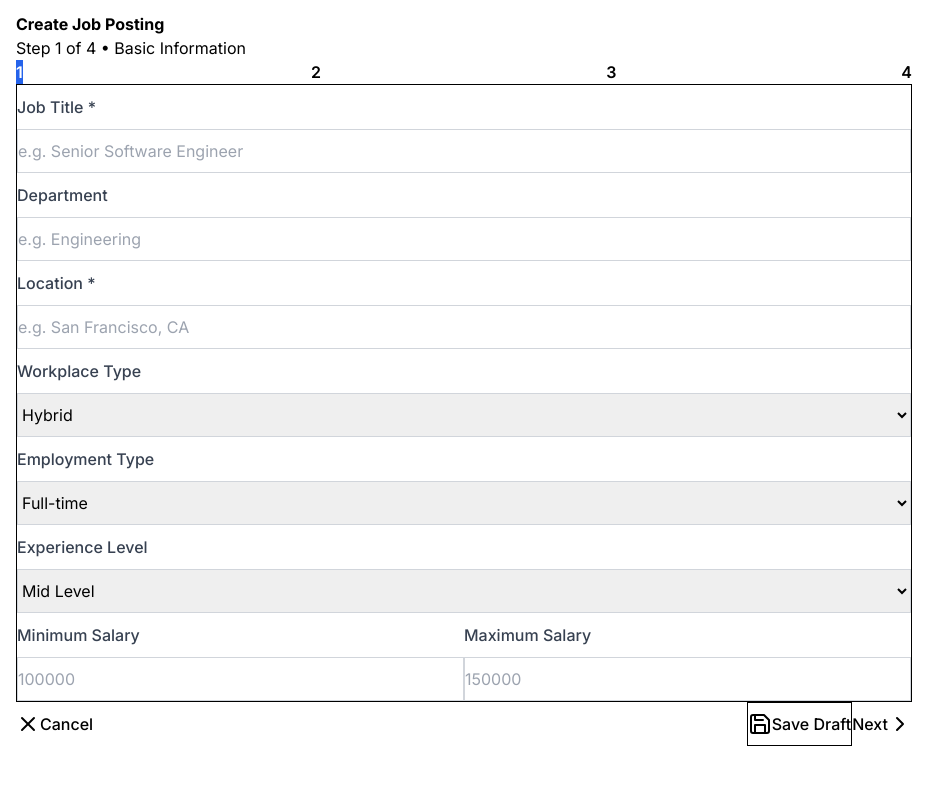
Test: JobPosting Component › should validate required fields
// Try to proceed without filling required fields
What coordinates should you click on to do the following:
click the button "Next"
I would click on:
 (882, 724)
Its box is [852, 702, 912, 746].
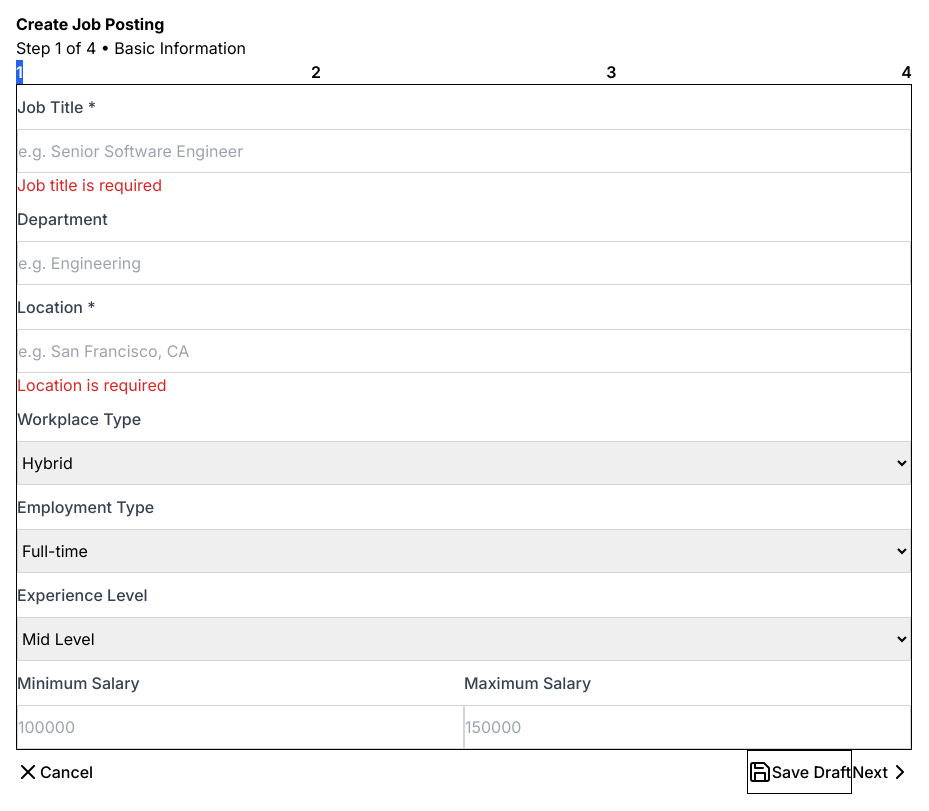
expect the text "Job title is required" is shown: met, box [17, 175, 162, 195]
